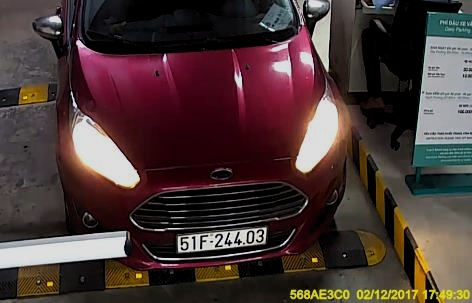plate: (174, 227, 269, 252)
